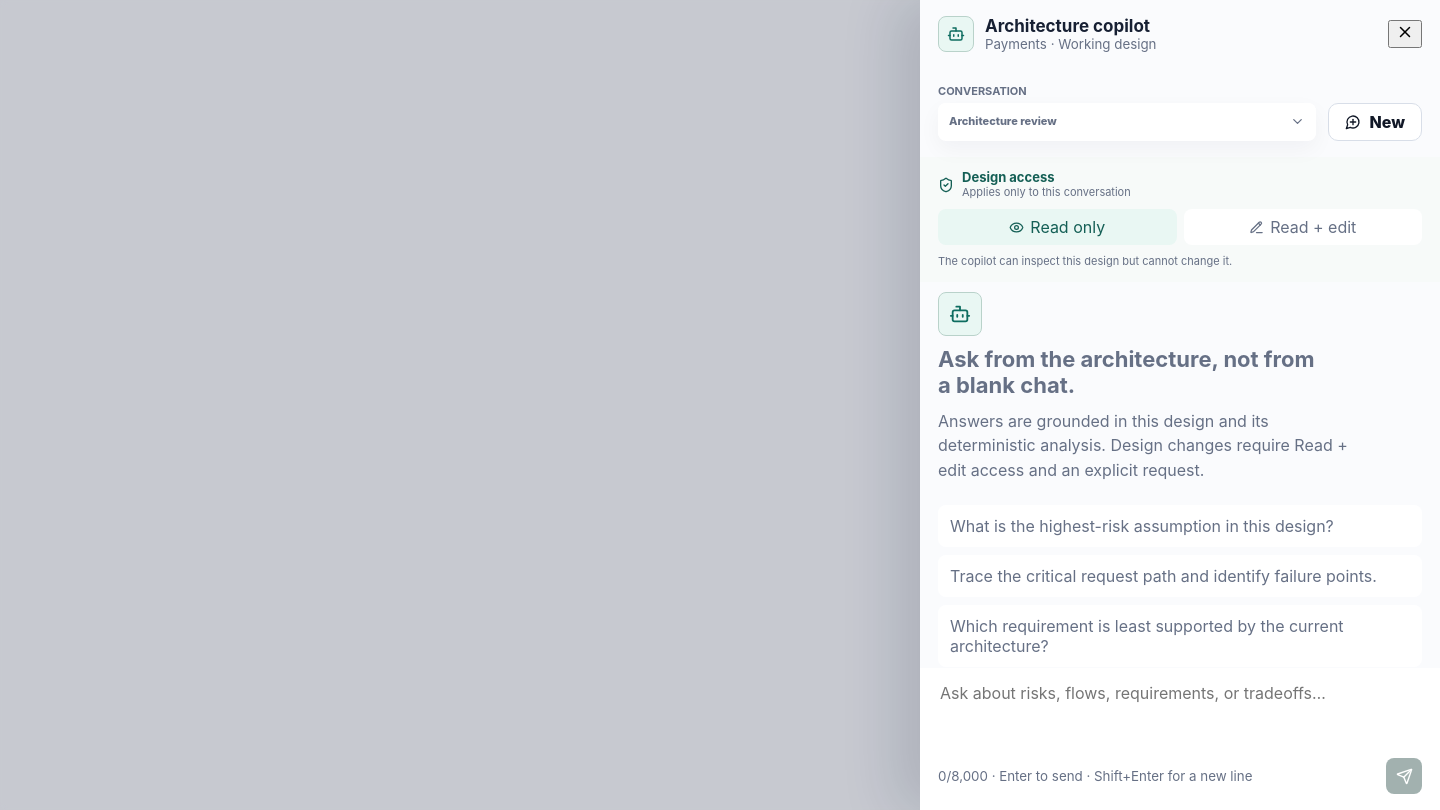
it: AIChatPanel tool access › shows the safe provider explanation without the generic backend prefix
(page scrolled)
Check: the button "Read only" is shown, box x1=938 y1=209 x2=1176 y2=245
Type "Review this design" into the text box with placeholder "Ask about risks, flows, requirements, or tradeoffs…" at (1180, 717), box x1=938 y1=680 x2=1422 y2=754
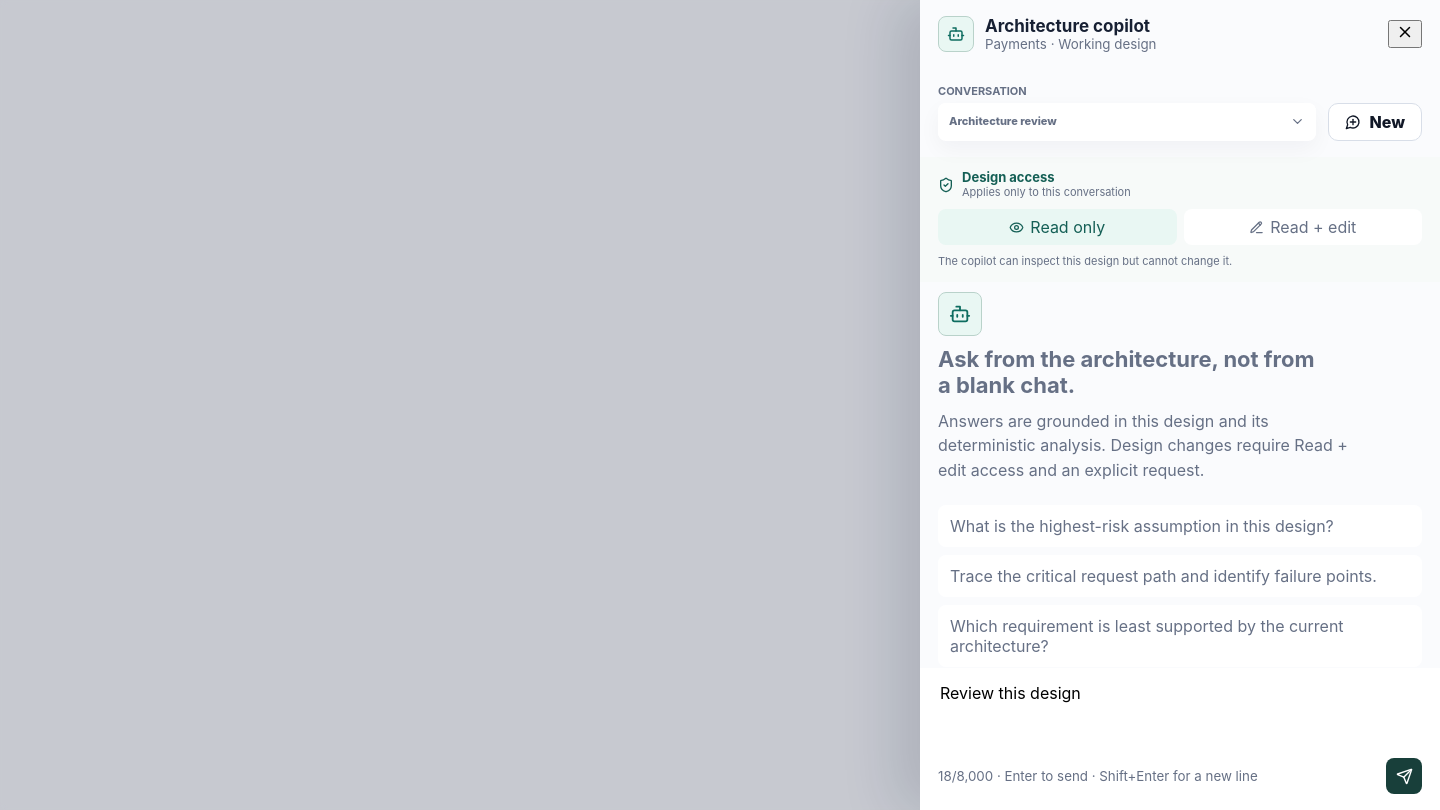
Click the button named "Send message" at (1404, 776), box x1=1386 y1=758 x2=1422 y2=794
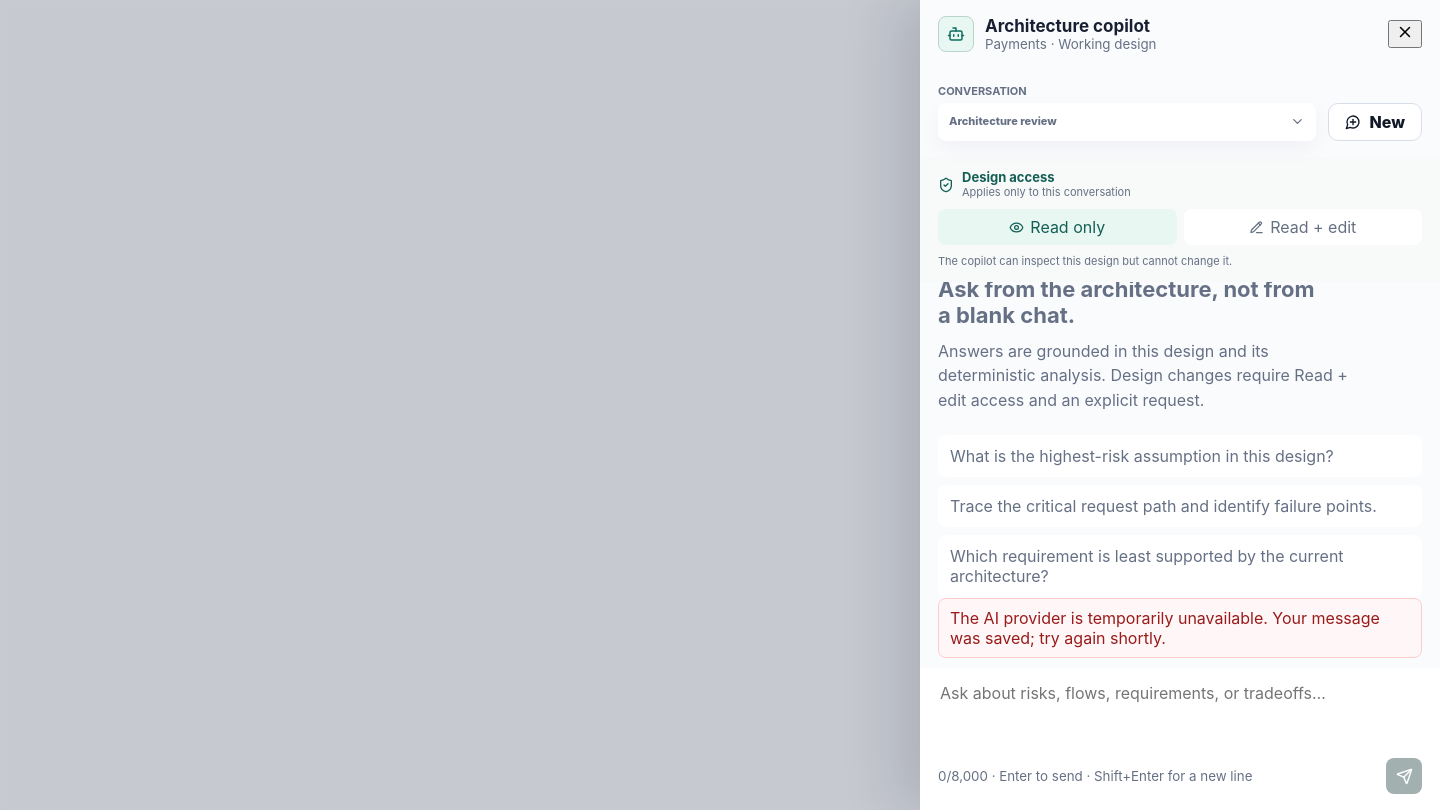
Check: the message shows "AI provider is temporarily unavailable", box x1=950 y1=608 x2=1380 y2=648
